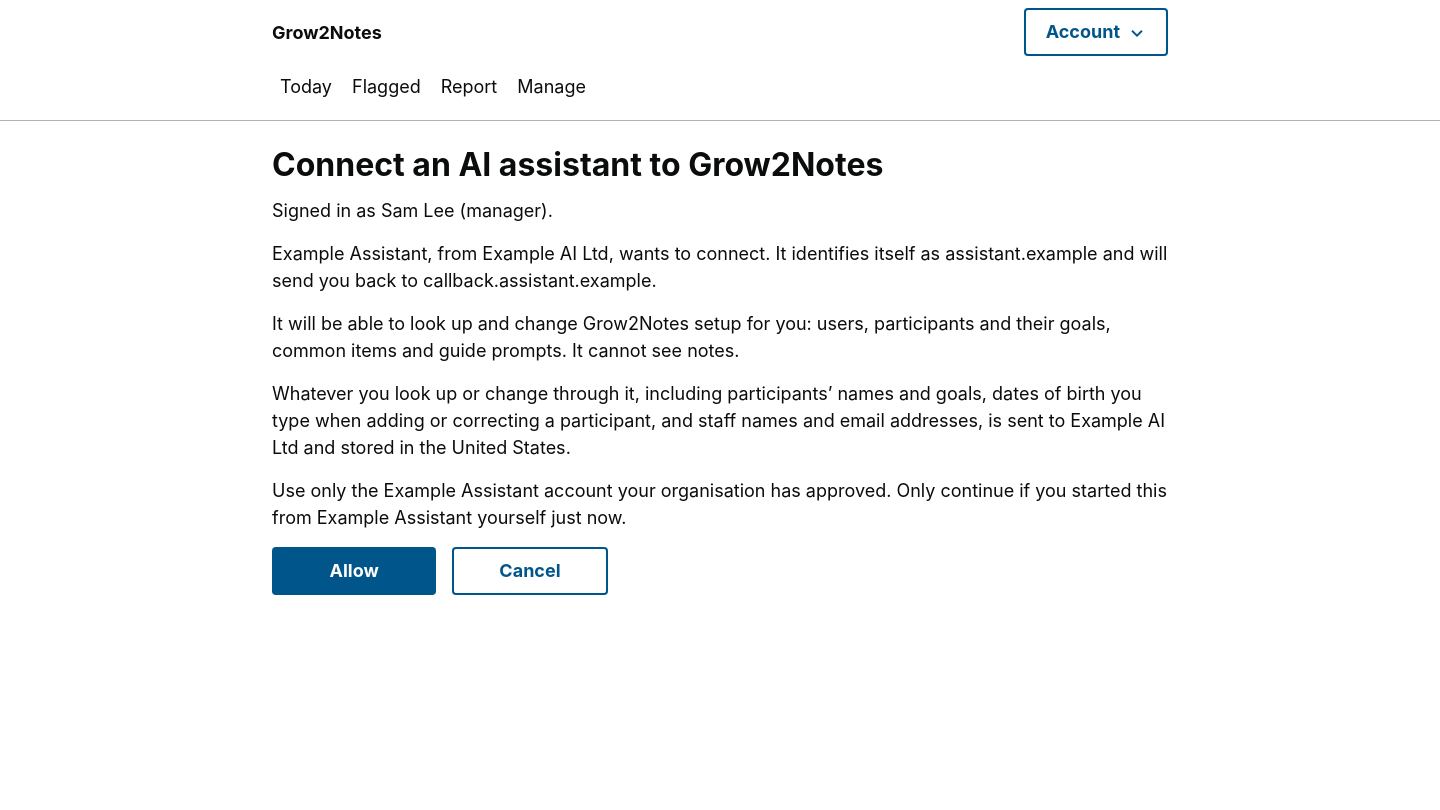
Test case: a manager or a Support account › says that Allow failed above the buttons for a 500, and stays, ready to press again
This screenshot has width=1440, height=810.
Click the button "Allow". click: (354, 571)
box: [272,547,436,595]
Wait 2 ms
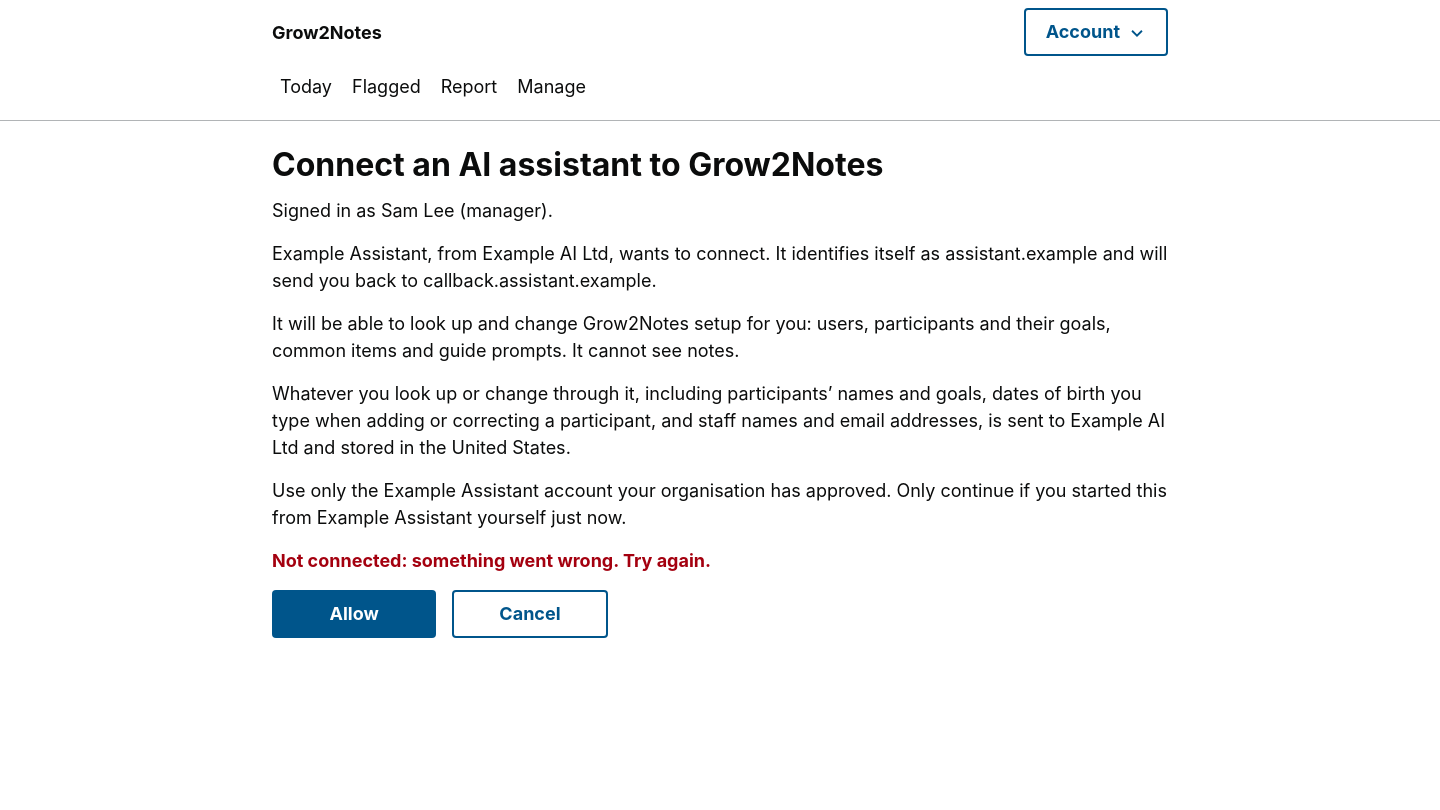
Now the message reads "Not connected: something went wrong. Try again.", box [272,550,711,571]
